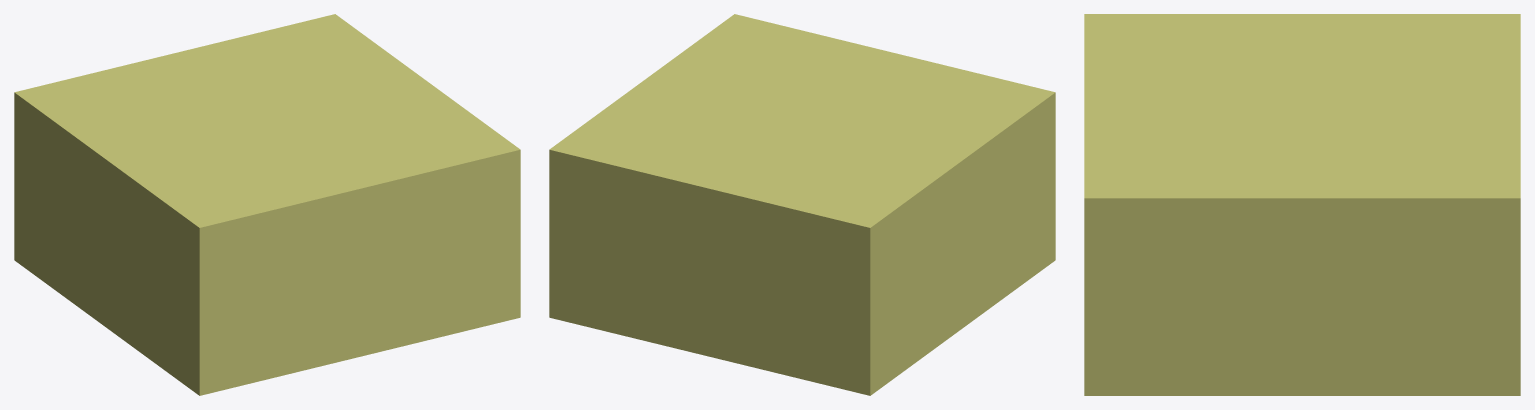
File: Abstract_Castle_Block_Half_Green_01.fbx
3 renders of one model, left to right at view 1: azimuth 30°, elevation 25°; view 2: azimuth 150°, elevation 25°; view 3: azimuth 270°, elevation 25°, orthographic. The views are drawn at different scales.
Parts seen in each view (by area): view 1: Model; view 2: Model; view 3: Model.
Part boxes in pixels (x1,y1,x2,y2): Model: (14, 14, 520, 395); Model: (549, 14, 1055, 395); Model: (1084, 14, 1520, 395).
Size of the model in its own units: 1000 by 500 by 1000.
